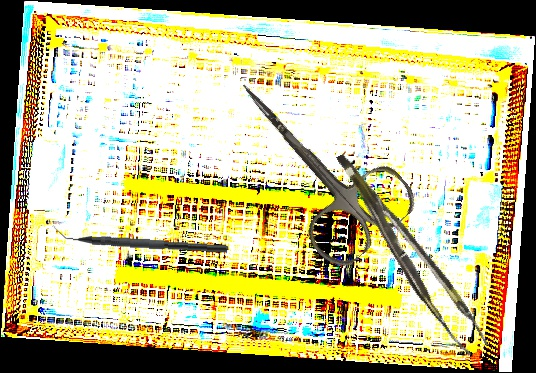Chopper: (50, 223, 230, 254)
Iris Scissors: (203, 46, 423, 276)
Tissue Forceps: (336, 138, 489, 364)
